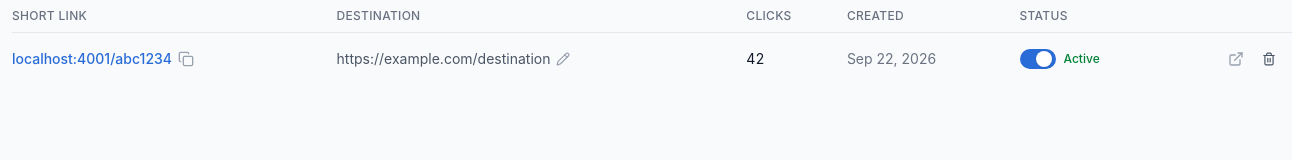
it: LinksTable › requires a second click before actually deleting
What coordinates should you click on to do the following:
click the button named "Delete link"
I would click on:
 (1269, 59)
Its box is [1254,48,1284,70].
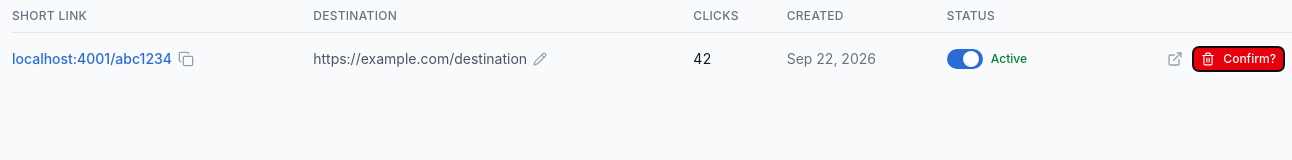
Now the button with aria-label "Confirm delete" is shown, box [1193,47,1284,71]
